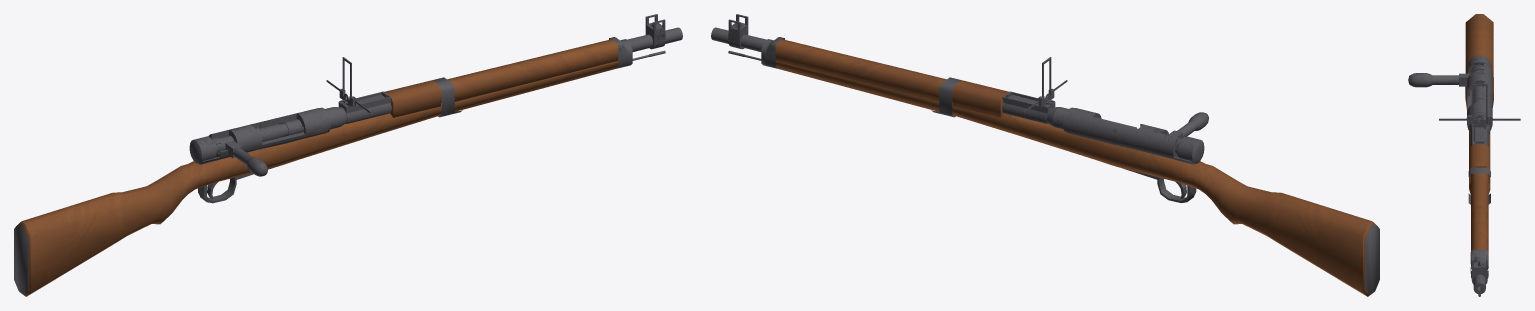
Rendered from Type99b2.fbx.
3 renders of one model, left to right at view 1: azimuth 30°, elevation 25°; view 2: azimuth 150°, elevation 25°; view 3: azimuth 270°, elevation 25°, orthographic. The views are drawn at different scales.
Parts seen in each view (by area): view 1: Stock.001; view 2: Stock.001; view 3: Stock.001.
Part boxes in pixels (x1,y1,x2,y2): Stock.001: [14, 14, 682, 296]; Stock.001: [711, 14, 1379, 296]; Stock.001: [1408, 14, 1520, 296].
Size of the model in its own units: 117 by 26.4 by 18.26.
